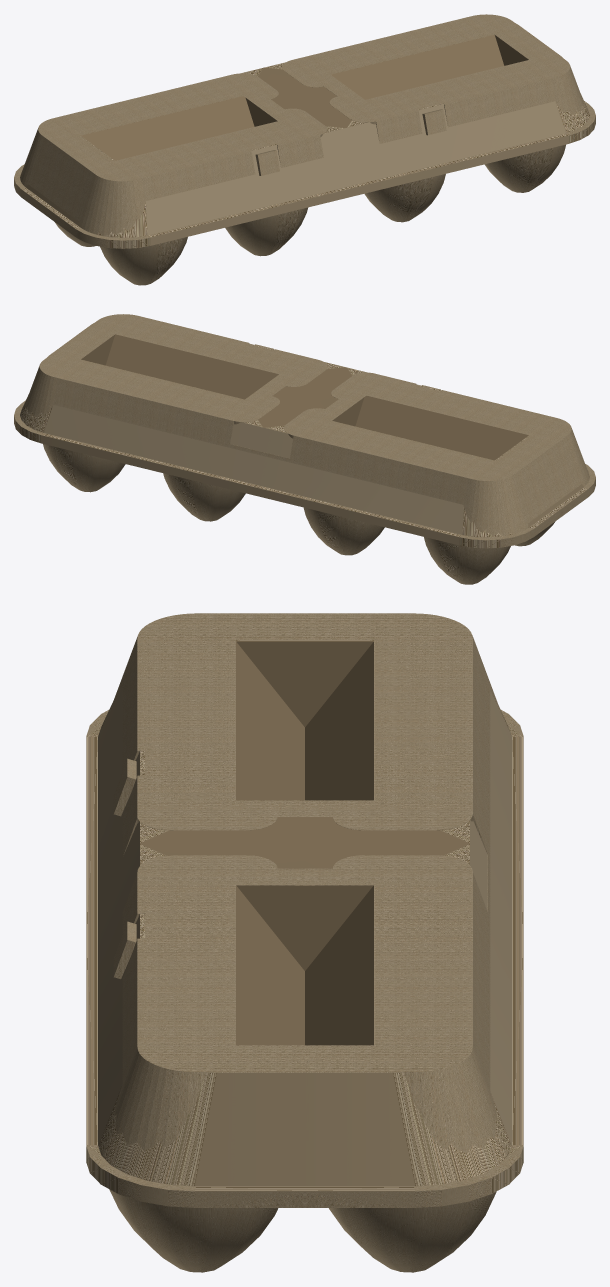
The model's file is eggs_reduced.dae.
The picture shows the model from 3 angles, top to bottom: view 1: azimuth 30°, elevation 25°; view 2: azimuth 150°, elevation 25°; view 3: azimuth 270°, elevation 25°; orthographic projection. The views are drawn at different scales.
Parts seen in each view (by area): view 1: SketchUp_001, SketchUp_010, SketchUp_009, SketchUp_004, SketchUp_005; view 2: SketchUp_001, SketchUp_010, SketchUp_009; view 3: SketchUp_010, SketchUp_001, SketchUp_009.
Part boxes in pixels (<box>): SketchUp_001: <box>20,14,583,235</box>; SketchUp_010: <box>14,24,595,248</box>; SketchUp_009: <box>55,144,565,285</box>; SketchUp_004: <box>422,109,446,135</box>; SketchUp_005: <box>255,150,279,175</box>; SketchUp_001: <box>26,314,589,536</box>; SketchUp_010: <box>14,323,595,548</box>; SketchUp_009: <box>43,444,555,584</box>; SketchUp_010: <box>86,640,523,1207</box>; SketchUp_001: <box>113,613,499,1152</box>; SketchUp_009: <box>109,1189,496,1272</box>.
Bounding box in the file's own units: 0.3001 × 0.1109 × 0.0654.
Materials: 1 (1 with a texture image).
